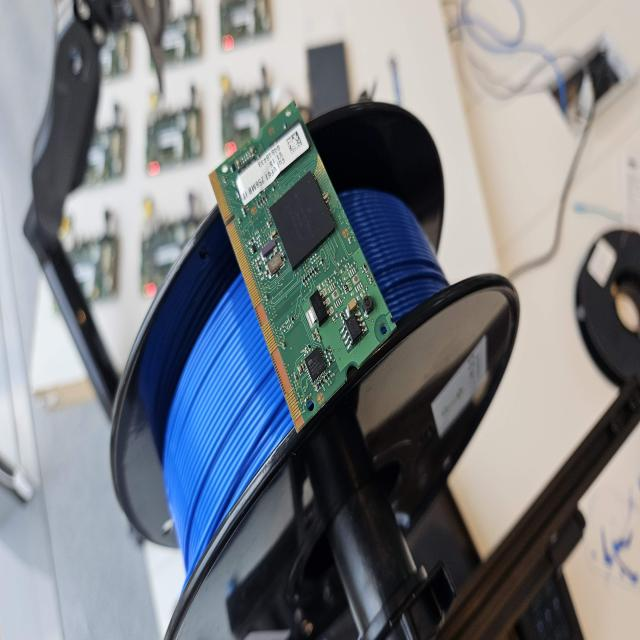som: (205, 96, 402, 448)
